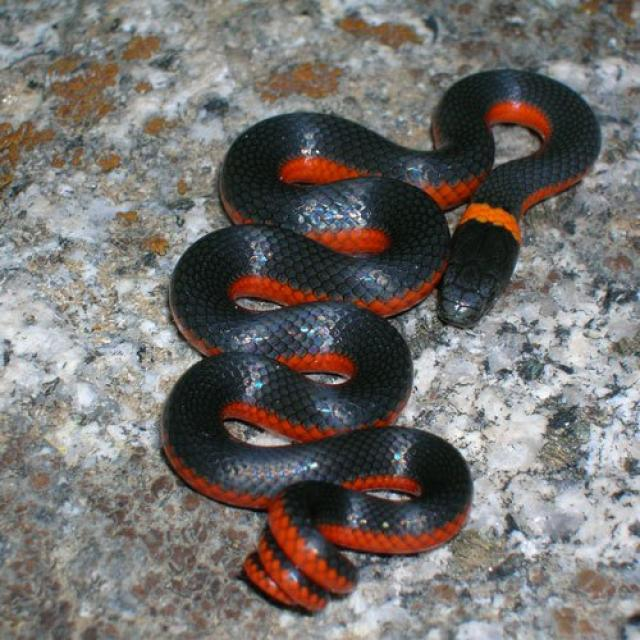Snake: (144, 63, 603, 606)
